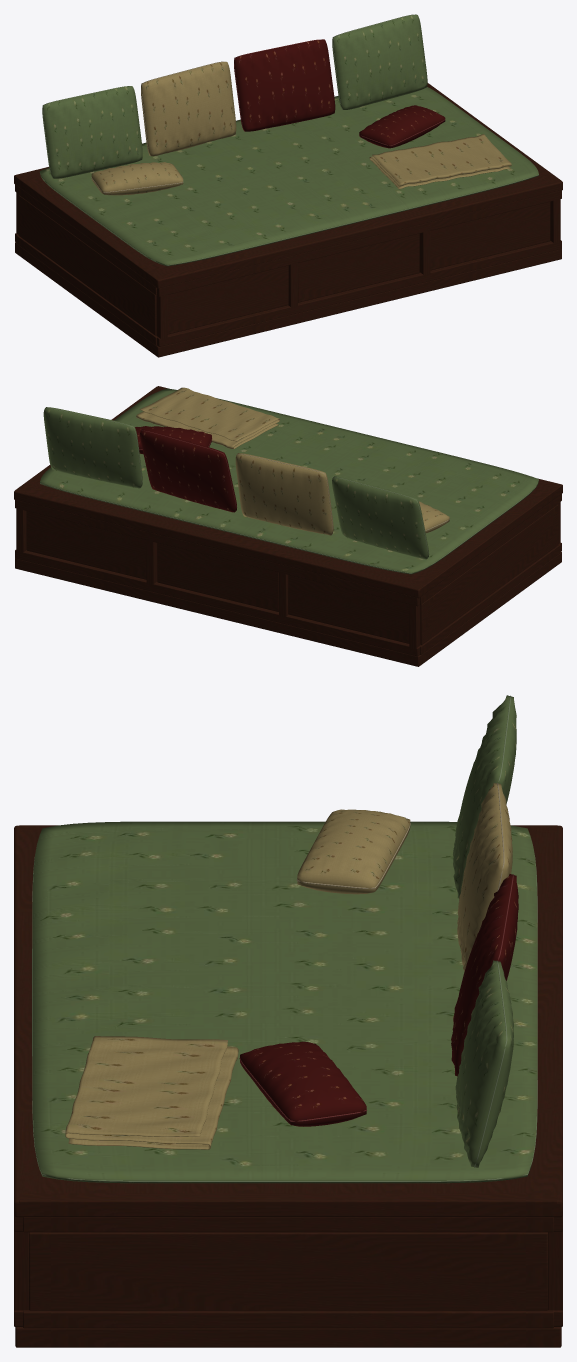
File: gpt-dakang-v1.glb
3 views of the same model, one above another, from view 1: azimuth 30°, elevation 25°; view 2: azimuth 150°, elevation 25°; view 3: azimuth 270°, elevation 25° (orthographic). The views are drawn at different scales.
Visible parts, largest first — view 1: 08_木围边及木面, 08_豆绿撒花软褥, 08_靠背_03, 08_靠背_01, 08_靠背_04, 08_靠背_02, 08_折起薄毯, 08_引枕_左, 08_引枕_右; view 2: 08_木围边及木面, 08_豆绿撒花软褥, 08_靠背_04, 08_靠背_02, 08_靠背_01, 08_靠背_03, 08_折起薄毯, 08_引枕_右, 08_引枕_左; view 3: 08_豆绿撒花软褥, 08_木围边及木面, 08_折起薄毯, 08_靠背_04, 08_引枕_右, 08_引枕_左, 08_靠背_02, 08_靠背_01, 08_靠背_03.
Part boxes in pixels (left/top/right/bottom): 08_木围边及木面: left=14, top=83, right=562, bottom=357; 08_豆绿撒花软褥: left=40, top=87, right=538, bottom=266; 08_靠背_03: left=234, top=39, right=335, bottom=131; 08_靠背_01: left=42, top=86, right=142, bottom=178; 08_靠背_04: left=332, top=14, right=427, bottom=109; 08_靠背_02: left=141, top=61, right=236, bottom=156; 08_折起薄毯: left=369, top=134, right=511, bottom=189; 08_引枕_左: left=91, top=162, right=183, bottom=195; 08_引枕_右: left=359, top=105, right=445, bottom=148; 08_木围边及木面: left=14, top=386, right=562, bottom=666; 08_豆绿撒花软褥: left=40, top=388, right=538, bottom=574; 08_靠背_04: left=43, top=407, right=142, bottom=488; 08_靠背_02: left=235, top=453, right=333, bottom=535; 08_靠背_01: left=332, top=476, right=429, bottom=559; 08_靠背_03: left=140, top=429, right=236, bottom=512; 08_折起薄毯: left=136, top=387, right=279, bottom=448; 08_引枕_右: left=135, top=426, right=212, bottom=454; 08_引枕_左: left=419, top=501, right=449, bottom=533; 08_豆绿撒花软褥: left=32, top=821, right=537, bottom=1183; 08_木围边及木面: left=14, top=825, right=562, bottom=1347; 08_折起薄毯: left=65, top=1036, right=238, bottom=1149; 08_靠背_04: left=455, top=960, right=513, bottom=1167; 08_引枕_右: left=239, top=1041, right=366, bottom=1126; 08_引枕_左: left=296, top=809, right=410, bottom=894; 08_靠背_02: left=457, top=783, right=512, bottom=971; 08_靠背_01: left=453, top=695, right=516, bottom=898; 08_靠背_03: left=451, top=874, right=518, bottom=1076.
Size of the model in its own units: 3 by 1.1 by 1.85.
Materials: 8 (4 with a texture image).
